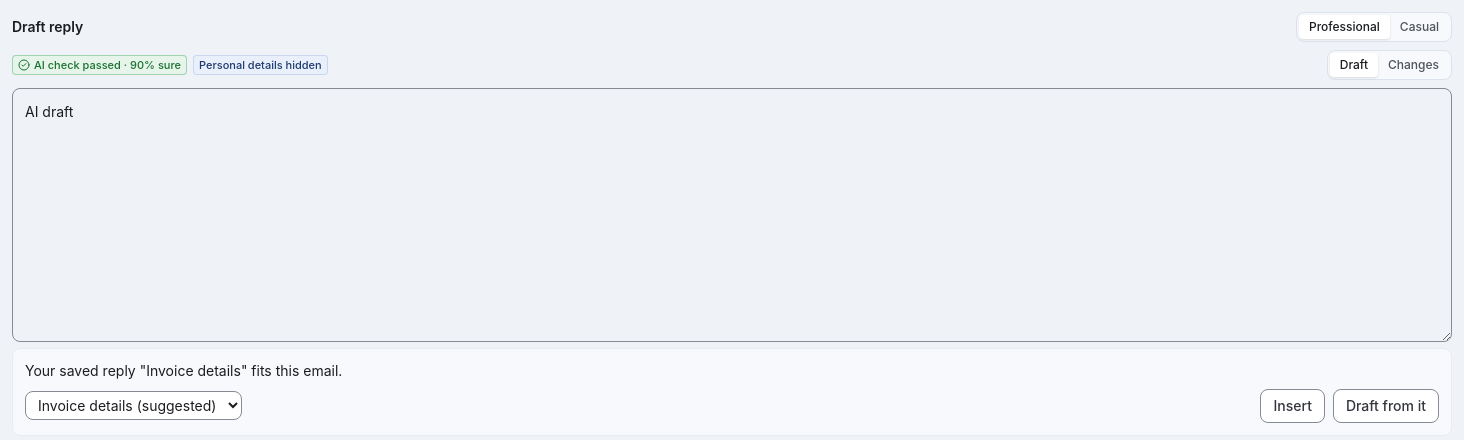
the suggested template is offered and inserting puts it in the editor with the real name
Click the button "Insert".
click(1293, 406)  # box [1260,388,1325,422]
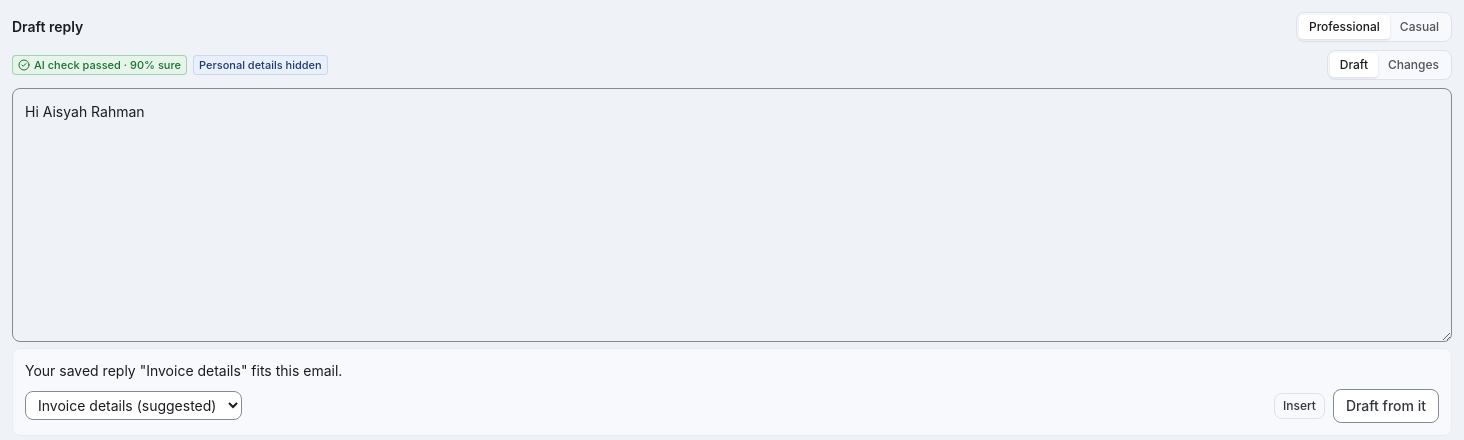
Now the text box named "Draft reply" holds "Hi Aisyah Rahman", box [12,88,1452,342]
